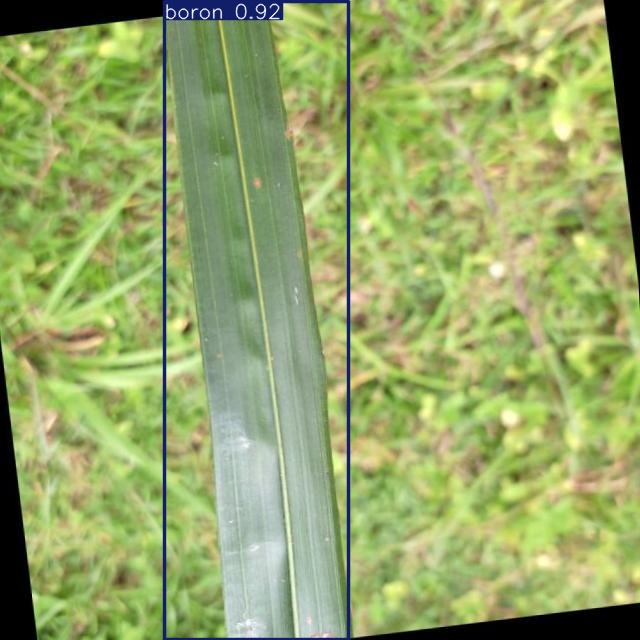nitrogen: (164, 2, 348, 640)
